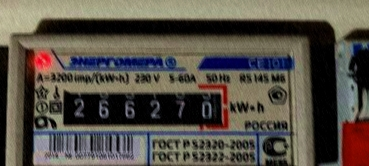0: (196, 98, 210, 118)
2: (69, 96, 82, 117), (146, 98, 159, 118)
6: (94, 97, 106, 118), (120, 98, 133, 117)
7: (172, 98, 182, 117)
screen: (48, 79, 231, 134)
